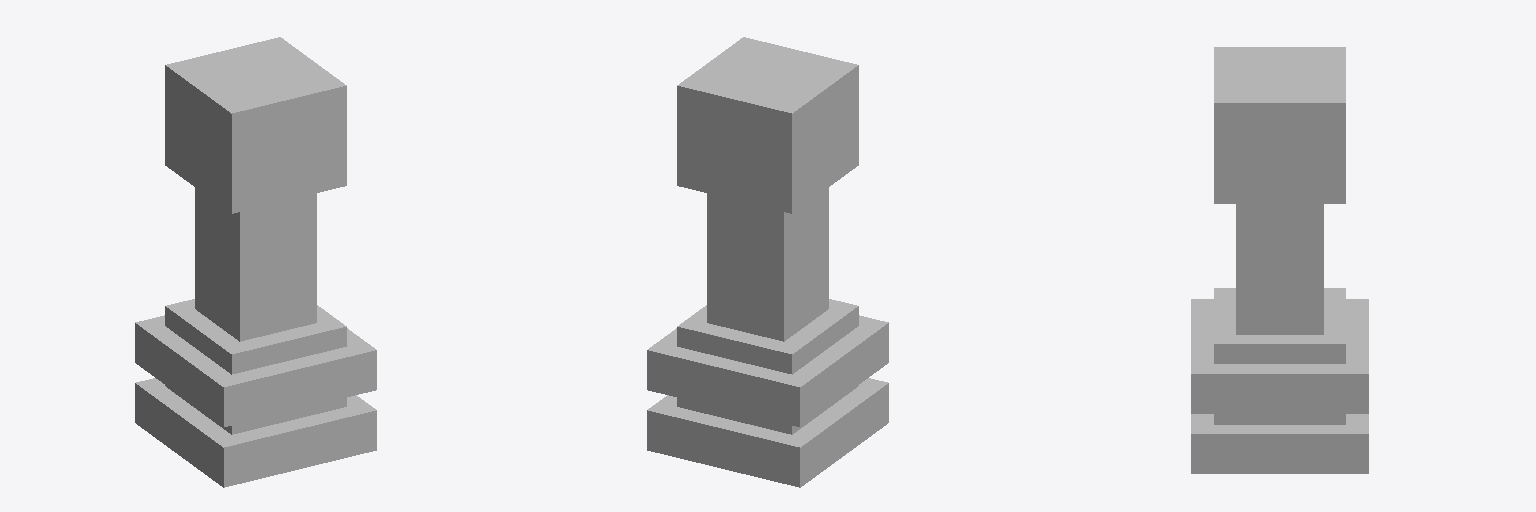
File: pawn.obj
The picture shows the model from 3 angles: view 1: azimuth 30°, elevation 25°; view 2: azimuth 150°, elevation 25°; view 3: azimuth 270°, elevation 25°; orthographic projection.
Parts seen in each view (by area): view 1: cube; view 2: cube; view 3: cube.
Boxes of the visible parts, <box> form: cube: <box>135,37,376,487</box>; cube: <box>647,37,888,487</box>; cube: <box>1191,47,1368,473</box>.
Bounding box in the file's own units: 0.5 × 1.12 × 0.5.